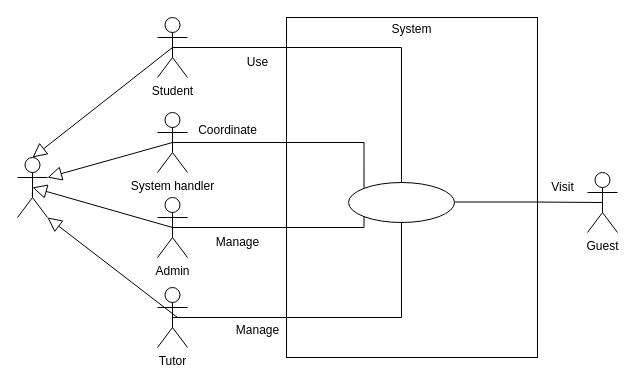
The diagram is 636 pixels wide and 386 high, and some of its shapes have lost their labels. The shapes that lost their labels are listed below. From the top down, each one's centre as x and y in pixels, then its label:
At pixel 32 187: "User".
At pixel 401 202: "On Demand Tutor".
